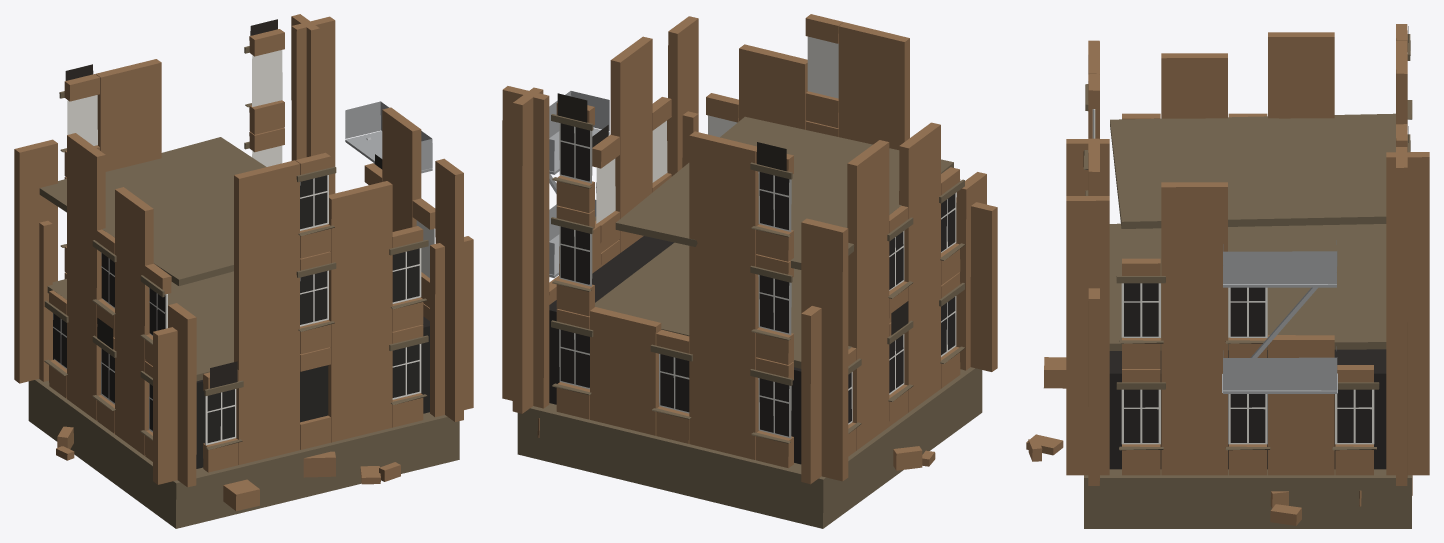
File: brick-block-ruined-lod1.glb
3 renders of one model, left to right at view 1: azimuth 30°, elevation 25°; view 2: azimuth 150°, elevation 25°; view 3: azimuth 270°, elevation 25°, orthographic. The views are drawn at different scales.
Parts seen in each view (by area): view 1: brick-block-ruined.001; view 2: brick-block-ruined.001; view 3: brick-block-ruined.001.
Boxes of the visible parts, x1,y1,x2,y2 form: brick-block-ruined.001: (14,14,473,528); brick-block-ruined.001: (502,14,997,528); brick-block-ruined.001: (1026,24,1429,528).
Bounding box in the file's own units: 12.82 × 11.81 × 11.35.
